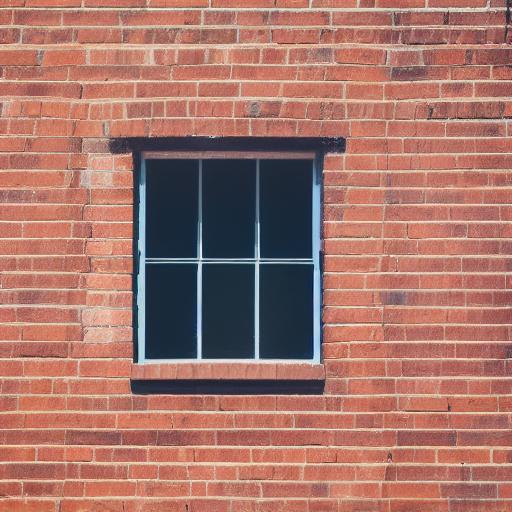Window: (112, 135, 347, 395)
